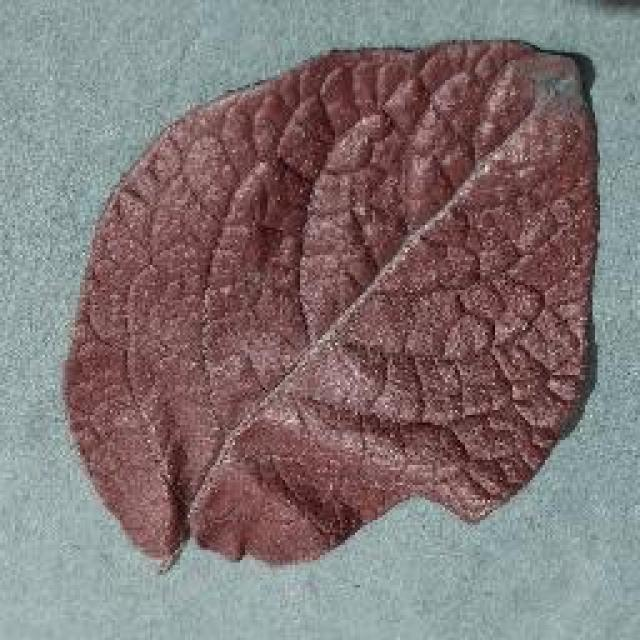Potato___healthy: (62, 36, 595, 571)
